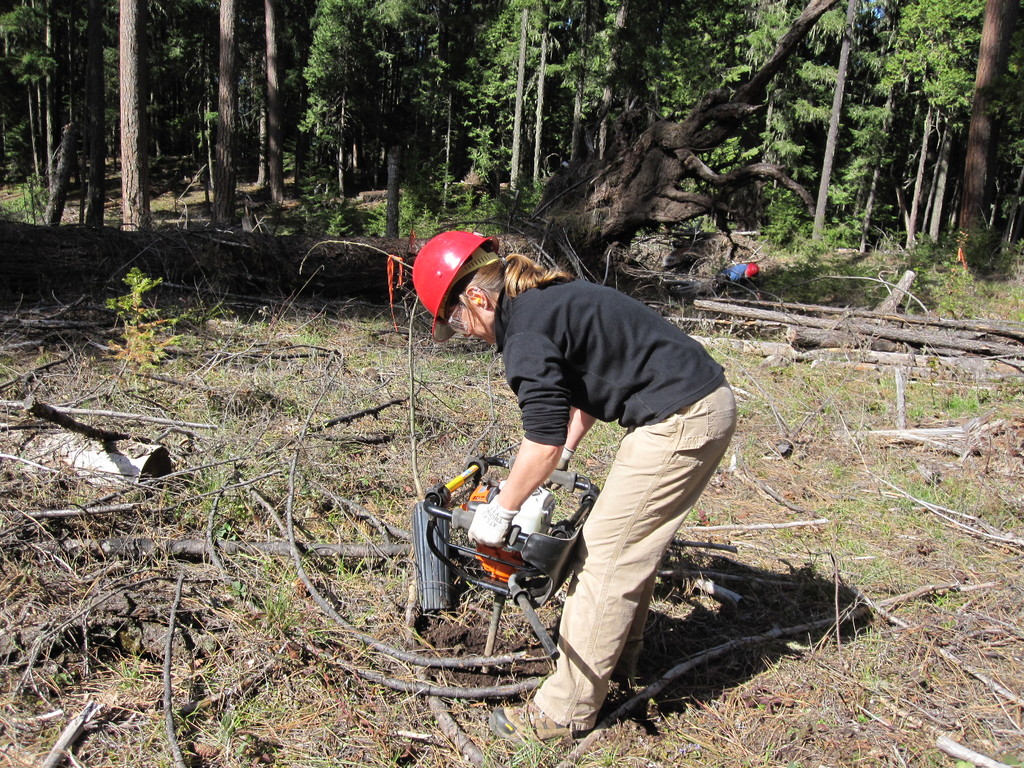Tree: (0, 0, 1024, 263)
